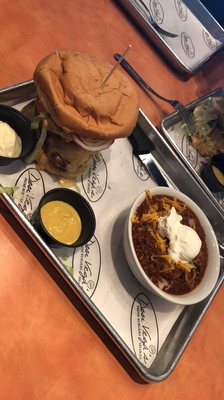sushi: (123, 187, 221, 306)
